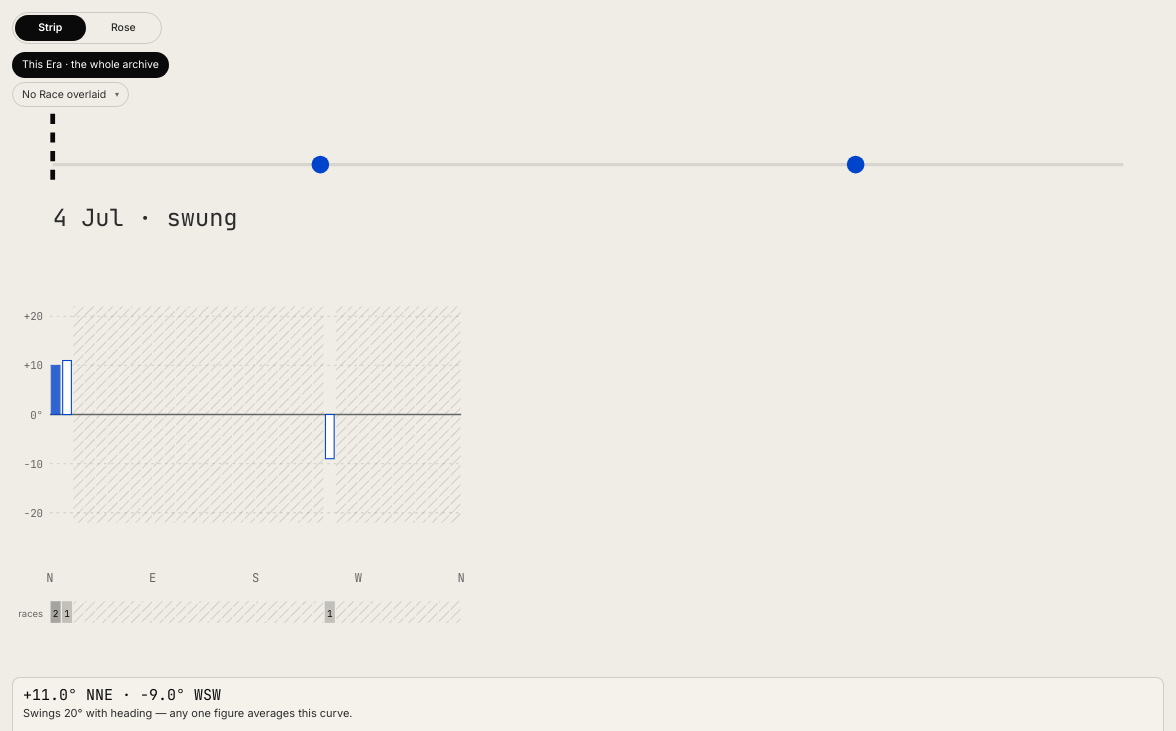
Test: the Strip | Rose toggle › swaps one drawing for the other rather than stacking both
What coordinates should you click on to do the following:
click the radio button labelled "Rose"
I would click on:
 (123, 28)
Its box is [88,15,159,41].
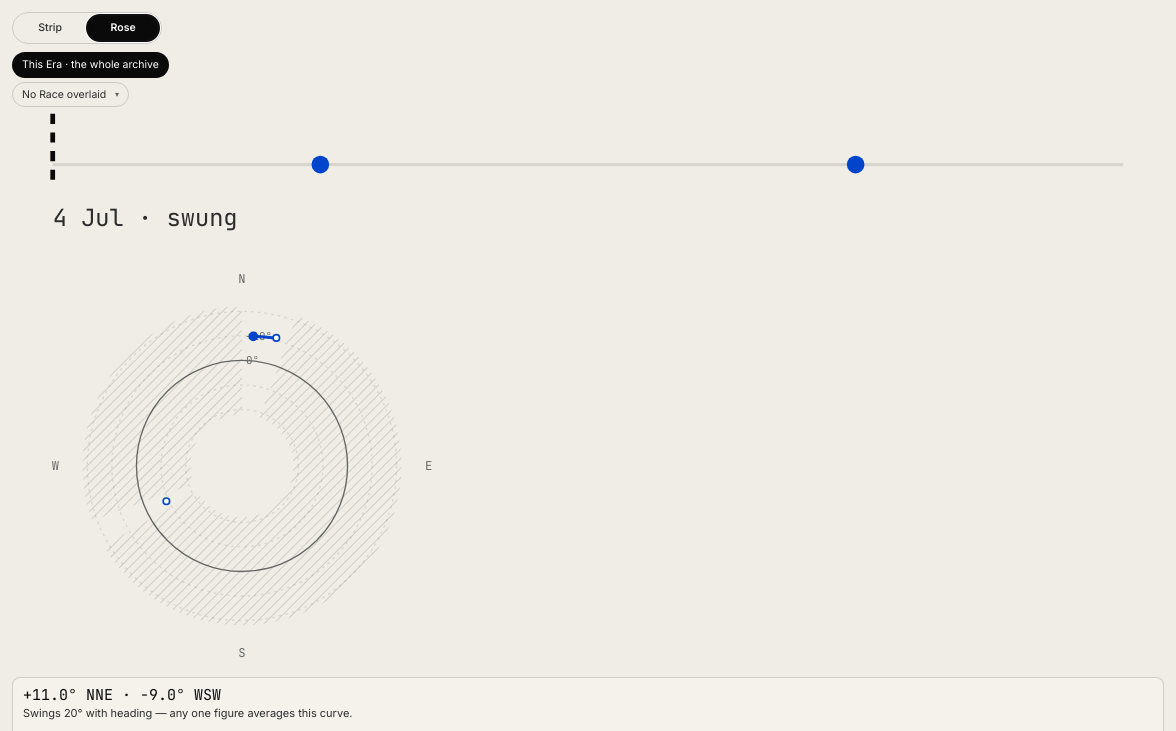
Expected: the picture with test id "compass-rose" is shown, [12,263,472,669]
Expected: the picture with test id "compass-strip" is gone
